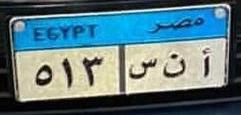1: (62, 58, 74, 87)
3: (81, 54, 109, 90)
5: (32, 63, 55, 87)
alif: (197, 44, 214, 79)
noon: (161, 50, 188, 79)
seen: (127, 58, 158, 81)
